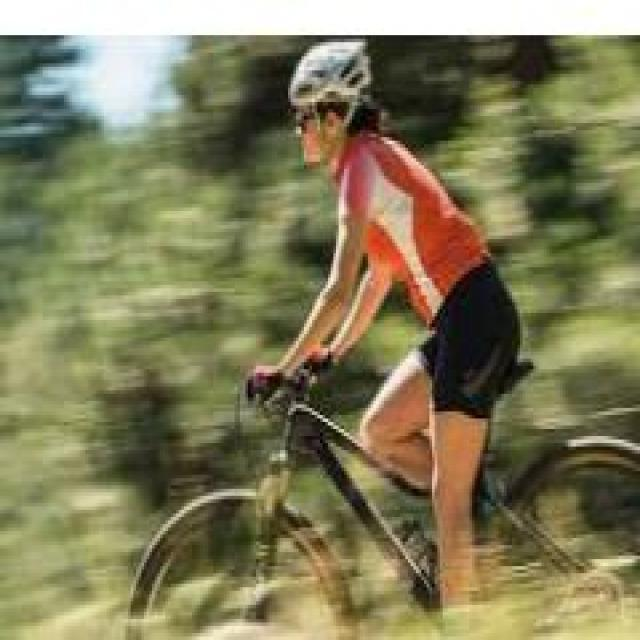bicycle: (129, 409, 640, 631)
